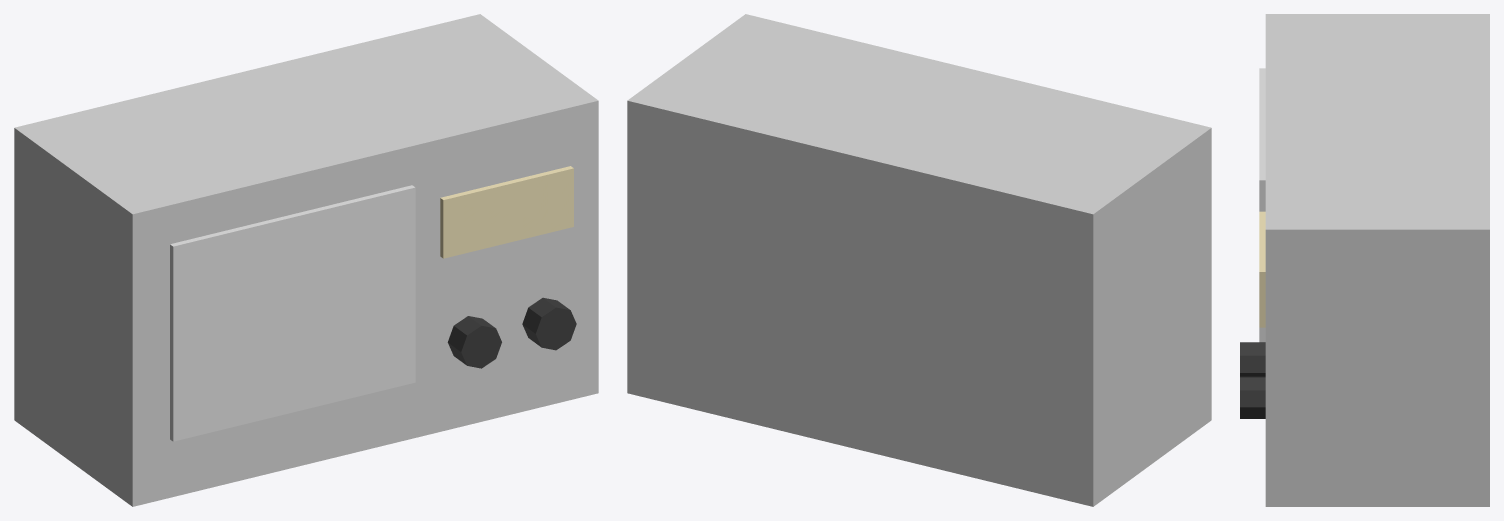
The model's file is radio_set.glb.
The picture shows the model from 3 angles, left to right: view 1: azimuth 30°, elevation 25°; view 2: azimuth 150°, elevation 25°; view 3: azimuth 270°, elevation 25°; orthographic projection. The views are drawn at different scales.
Visible parts, largest first — view 1: radio_set; view 2: radio_set; view 3: radio_set.
Part boxes in pixels (x1=…): radio_set: x1=14, y1=14, x2=598, y2=506; radio_set: x1=627, y1=14, x2=1211, y2=506; radio_set: x1=1240, y1=14, x2=1489, y2=506.
Bounding box in the file's own units: 0.5 × 0.3 × 0.245.
